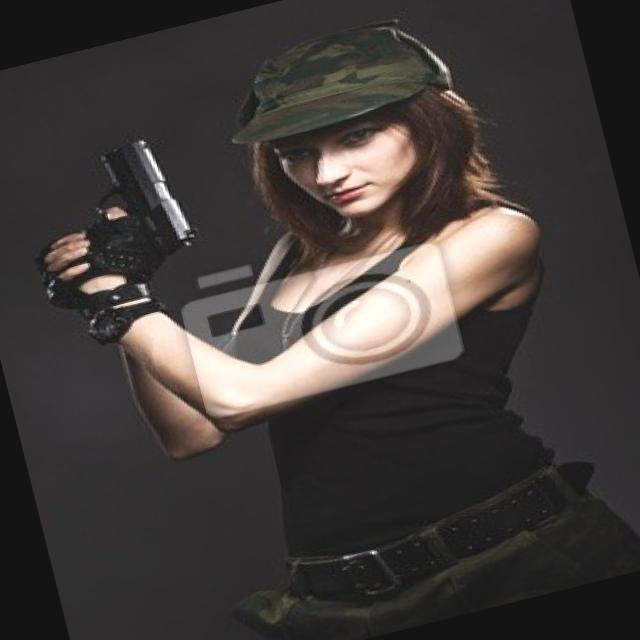handgun: (46, 124, 206, 286)
